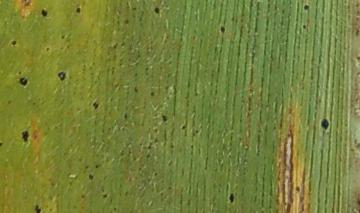tarspot: (319, 116, 332, 131), (20, 129, 32, 145), (18, 76, 29, 90), (227, 190, 237, 205), (56, 70, 67, 82), (37, 8, 51, 17), (159, 113, 170, 124), (152, 5, 162, 16), (220, 22, 227, 35), (33, 203, 42, 213), (301, 3, 312, 11), (73, 6, 84, 14), (294, 185, 303, 194), (10, 39, 18, 49), (86, 173, 96, 181), (92, 101, 99, 112), (148, 91, 157, 99), (300, 23, 308, 31), (181, 123, 188, 132), (15, 69, 23, 76), (193, 128, 201, 135), (43, 46, 51, 53), (99, 193, 109, 198), (1, 139, 3, 149)
